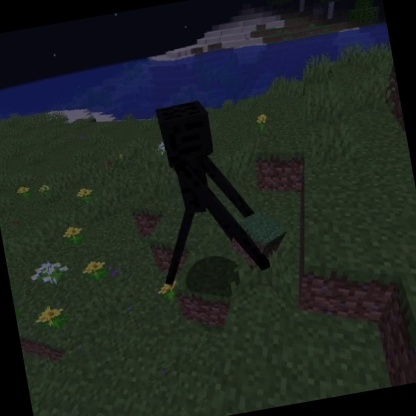enderman: (132, 88, 286, 290)
